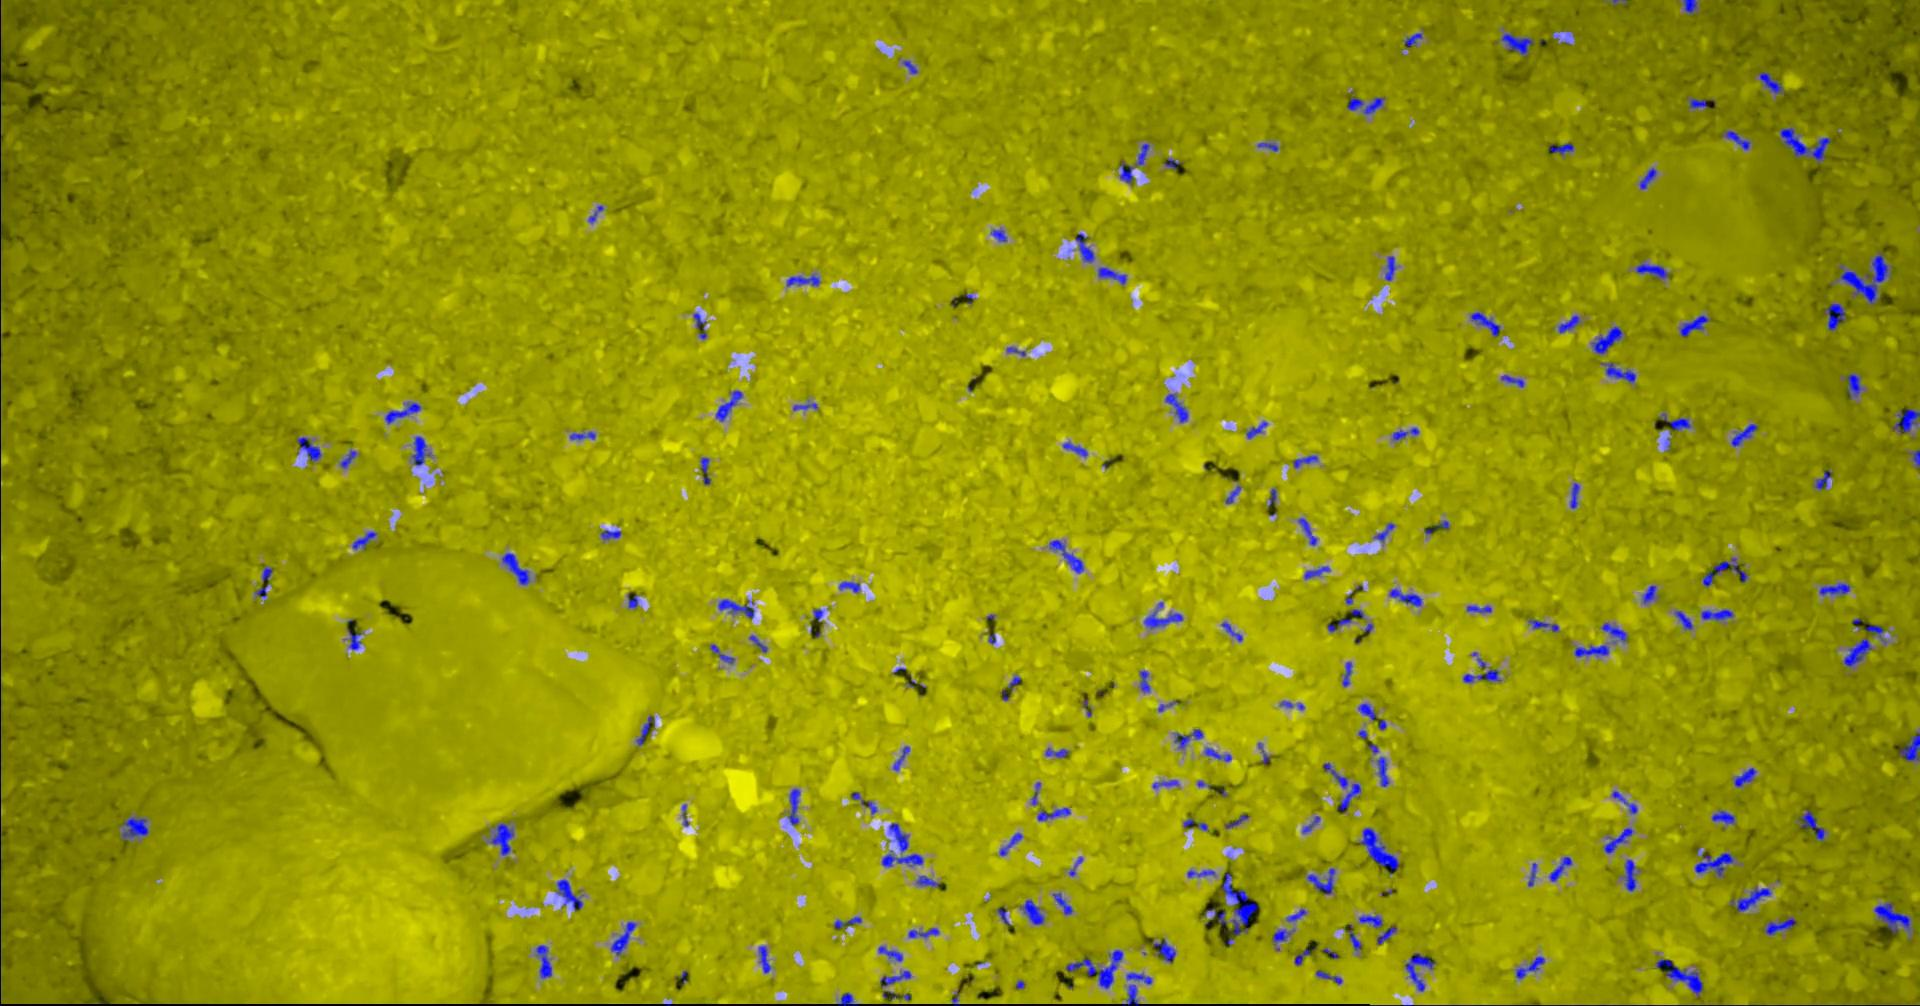ant: (1839, 253, 1888, 304), (1065, 949, 1123, 988), (1222, 873, 1257, 935), (1359, 827, 1398, 874), (1323, 762, 1360, 812), (1779, 127, 1830, 161), (1655, 959, 1702, 995), (1702, 558, 1747, 586), (1048, 539, 1083, 573), (1119, 144, 1149, 183), (1404, 953, 1435, 991), (1874, 902, 1910, 934), (1143, 601, 1182, 627), (1462, 657, 1501, 682), (1730, 887, 1770, 911), (1694, 852, 1733, 876), (1123, 972, 1150, 1005), (502, 553, 530, 584), (610, 921, 635, 955), (1591, 326, 1622, 353), (715, 390, 742, 420), (1797, 810, 1823, 841), (383, 401, 420, 423), (1843, 638, 1870, 666), (1603, 827, 1632, 854), (1305, 868, 1335, 894), (556, 879, 582, 909), (490, 823, 513, 855), (717, 598, 753, 619), (1500, 33, 1533, 55), (1470, 311, 1498, 337), (1164, 392, 1189, 422), (1679, 315, 1710, 337), (1346, 97, 1384, 114), (121, 815, 149, 840), (881, 850, 922, 866), (1604, 362, 1636, 382), (296, 436, 321, 461), (1515, 956, 1544, 978), (888, 822, 908, 852), (1893, 408, 1919, 432), (1731, 423, 1757, 446), (635, 715, 654, 746), (1611, 790, 1637, 813), (1175, 728, 1203, 748), (1898, 732, 1919, 760), (535, 944, 551, 978), (1389, 588, 1421, 606), (1076, 232, 1095, 262), (1661, 412, 1690, 431), (851, 791, 876, 813), (1549, 856, 1571, 882), (1763, 917, 1796, 934), (1823, 304, 1844, 330), (254, 567, 272, 597), (879, 970, 910, 987), (999, 832, 1022, 855), (1759, 71, 1783, 93), (1022, 899, 1044, 923), (1153, 937, 1175, 962), (1097, 267, 1126, 285), (411, 436, 429, 465), (1636, 263, 1669, 278), (1298, 517, 1316, 545), (1724, 130, 1750, 149), (709, 644, 734, 663), (1051, 892, 1072, 915), (1037, 807, 1070, 821), (1601, 622, 1625, 641), (1733, 767, 1756, 786), (352, 531, 376, 549), (891, 746, 909, 770), (1374, 522, 1394, 542), (1222, 621, 1242, 641), (1623, 859, 1636, 890), (877, 945, 902, 962), (1528, 619, 1558, 631), (789, 788, 799, 826), (1316, 969, 1341, 984), (1246, 420, 1267, 438), (1639, 166, 1656, 189), (786, 274, 819, 286), (1700, 608, 1733, 620), (1575, 644, 1608, 655), (692, 312, 706, 339), (1204, 747, 1230, 761), (1558, 315, 1578, 333), (1062, 442, 1087, 456), (833, 916, 861, 929), (1818, 583, 1849, 594), (1377, 756, 1388, 786), (1225, 813, 1248, 828), (1392, 427, 1418, 439), (1674, 610, 1691, 629), (1865, 624, 1884, 641), (1357, 702, 1377, 720), (1349, 923, 1361, 950), (1377, 926, 1396, 944), (1848, 373, 1862, 398), (1327, 619, 1351, 633), (1548, 142, 1573, 155), (1304, 567, 1330, 579), (758, 945, 770, 973), (1815, 469, 1830, 489), (908, 927, 938, 937), (1293, 455, 1317, 467), (1710, 810, 1735, 823), (1183, 817, 1208, 829), (1357, 915, 1382, 927), (749, 635, 767, 652), (1302, 815, 1319, 832), (1500, 375, 1523, 387), (340, 448, 356, 467), (1272, 929, 1291, 944), (347, 629, 361, 649), (1384, 255, 1396, 279), (1294, 948, 1310, 964), (700, 457, 710, 484), (1224, 485, 1239, 503), (1208, 908, 1225, 923), (1138, 669, 1149, 692), (916, 875, 938, 887), (837, 992, 857, 1005), (1404, 32, 1422, 46), (1642, 584, 1655, 603), (1286, 908, 1305, 921), (569, 431, 596, 439), (1152, 779, 1178, 788), (838, 580, 858, 592), (1045, 747, 1068, 757), (1570, 483, 1578, 508), (1342, 661, 1351, 686), (1186, 869, 1215, 876), (1688, 97, 1707, 108), (792, 401, 817, 410), (1528, 862, 1537, 887), (599, 528, 620, 539), (990, 229, 1006, 241), (1465, 605, 1491, 612), (1257, 142, 1277, 151), (1683, 0, 1697, 13), (1911, 448, 1919, 467), (627, 594, 637, 607), (0, 37, 1, 104), (0, 150, 1, 211)
